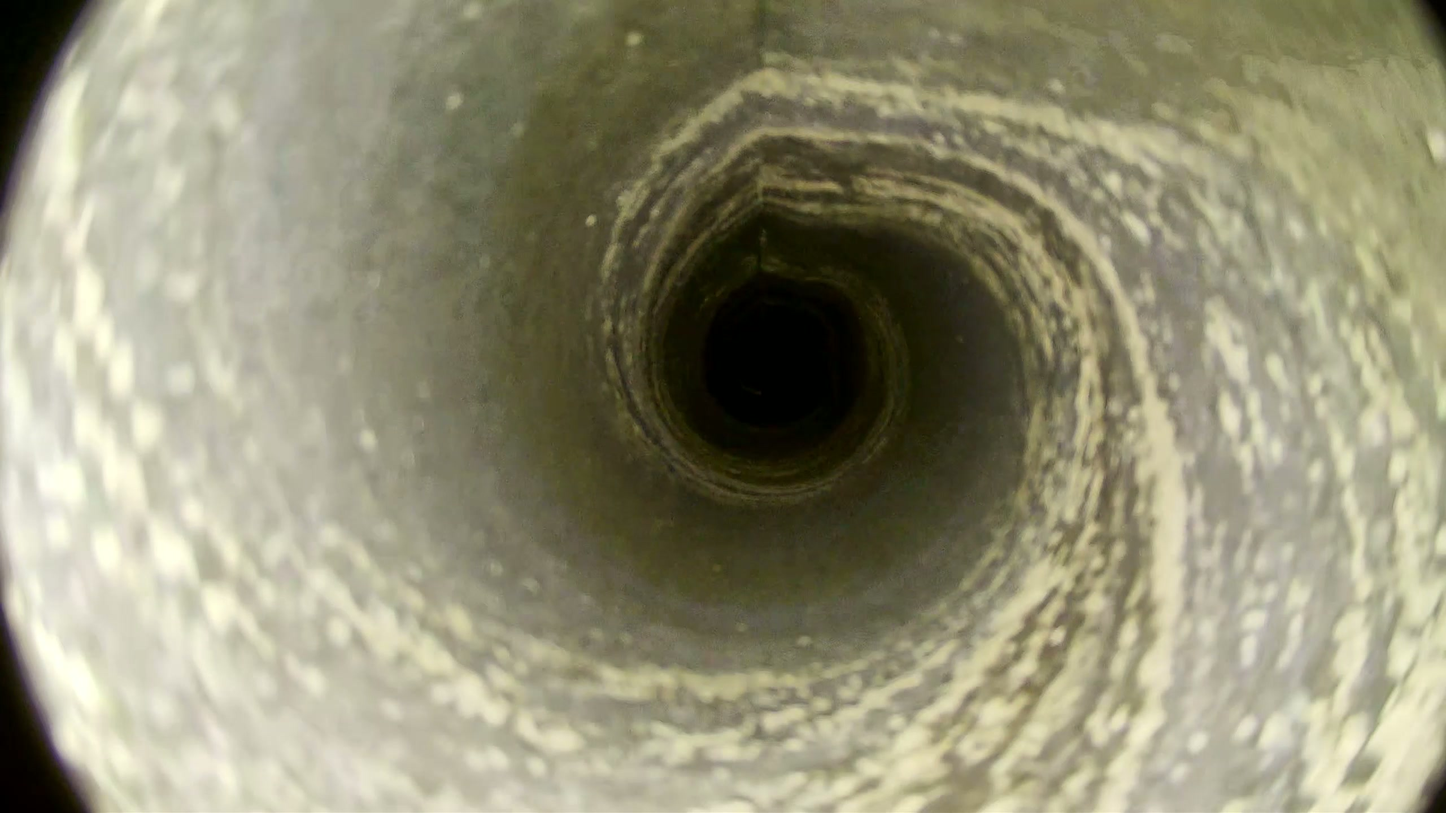hole: (708, 306, 831, 424)
